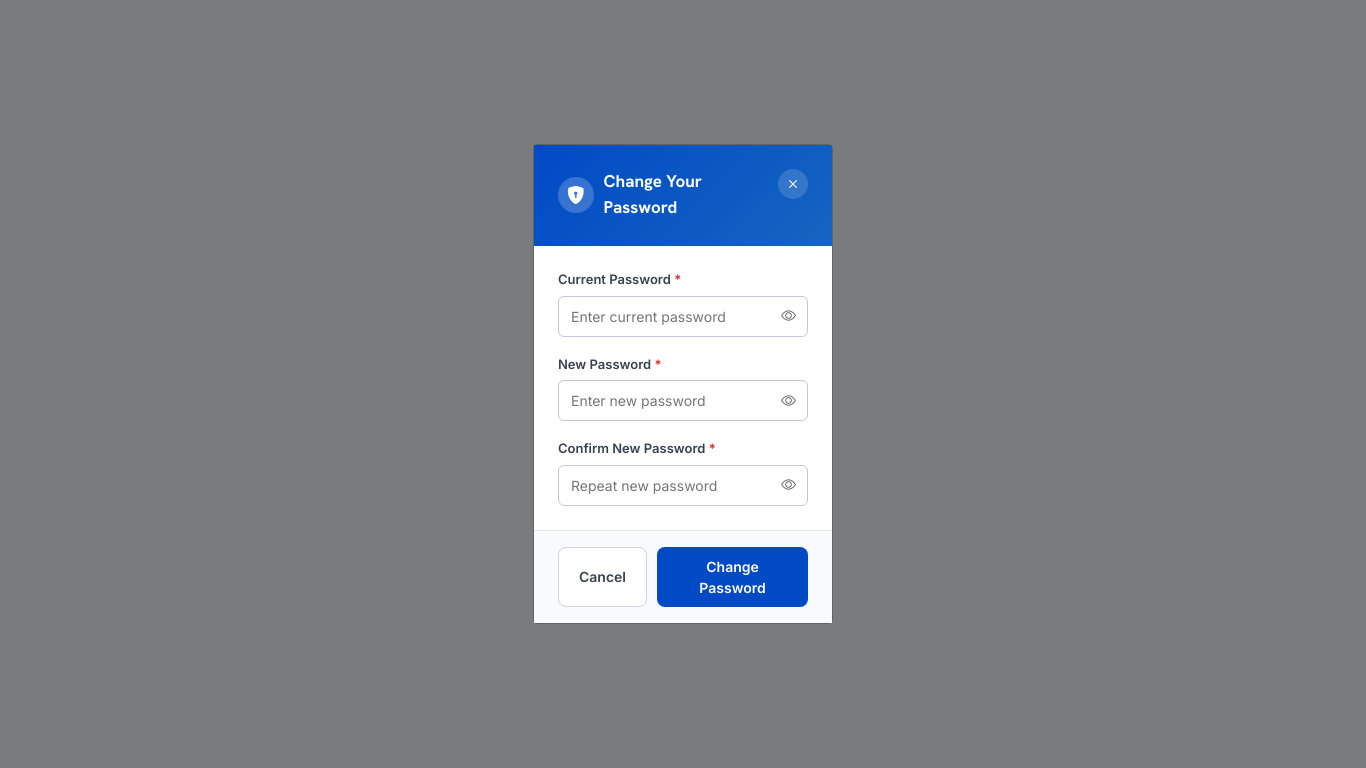
it: ChangePasswordModal — self service › wrong current password (server error) is shown and modal stays open
The width and height of the screenshot is (1366, 768).
Type "nope" into the password field with placeholder "Enter current password" at (683, 316), box [558,296,808,337]
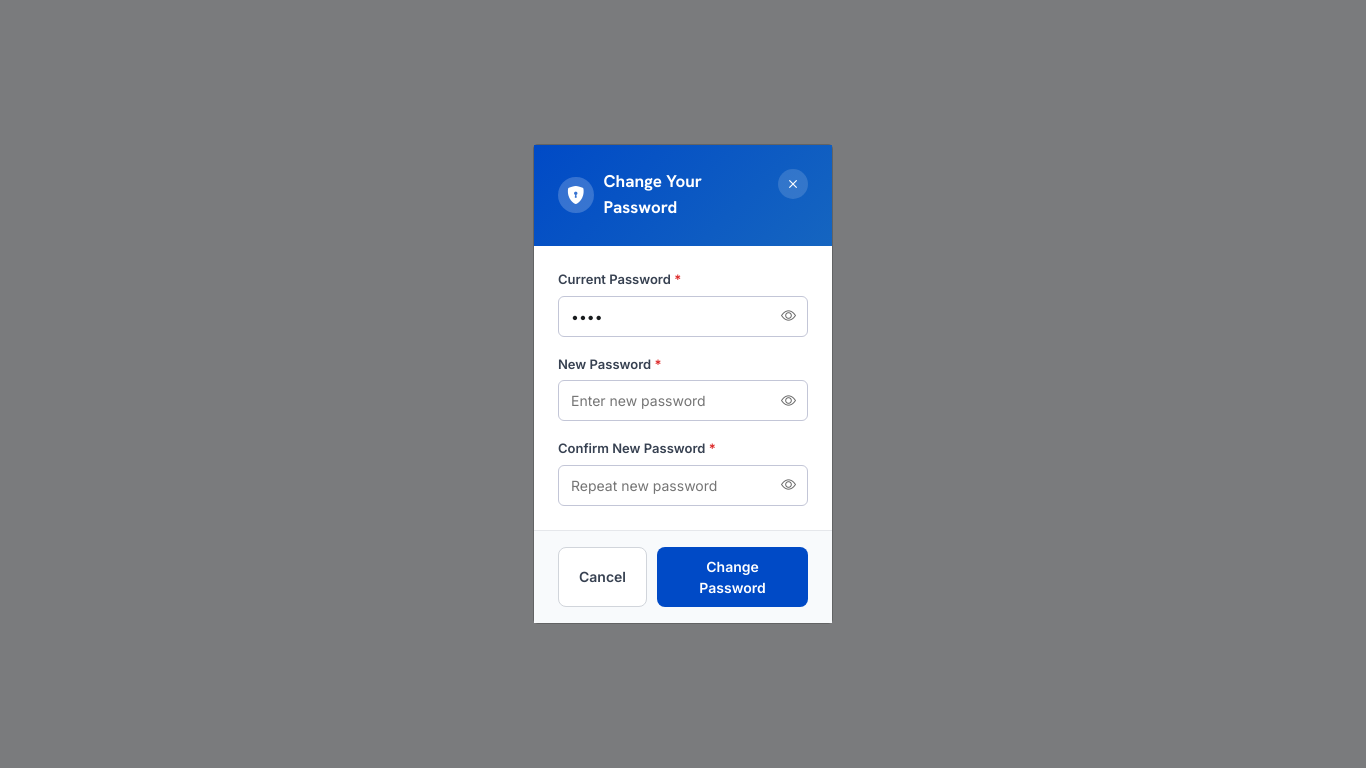
Type "NewPass1!" into the password field with placeholder "Enter new password" at (683, 401), box [558,380,808,421]
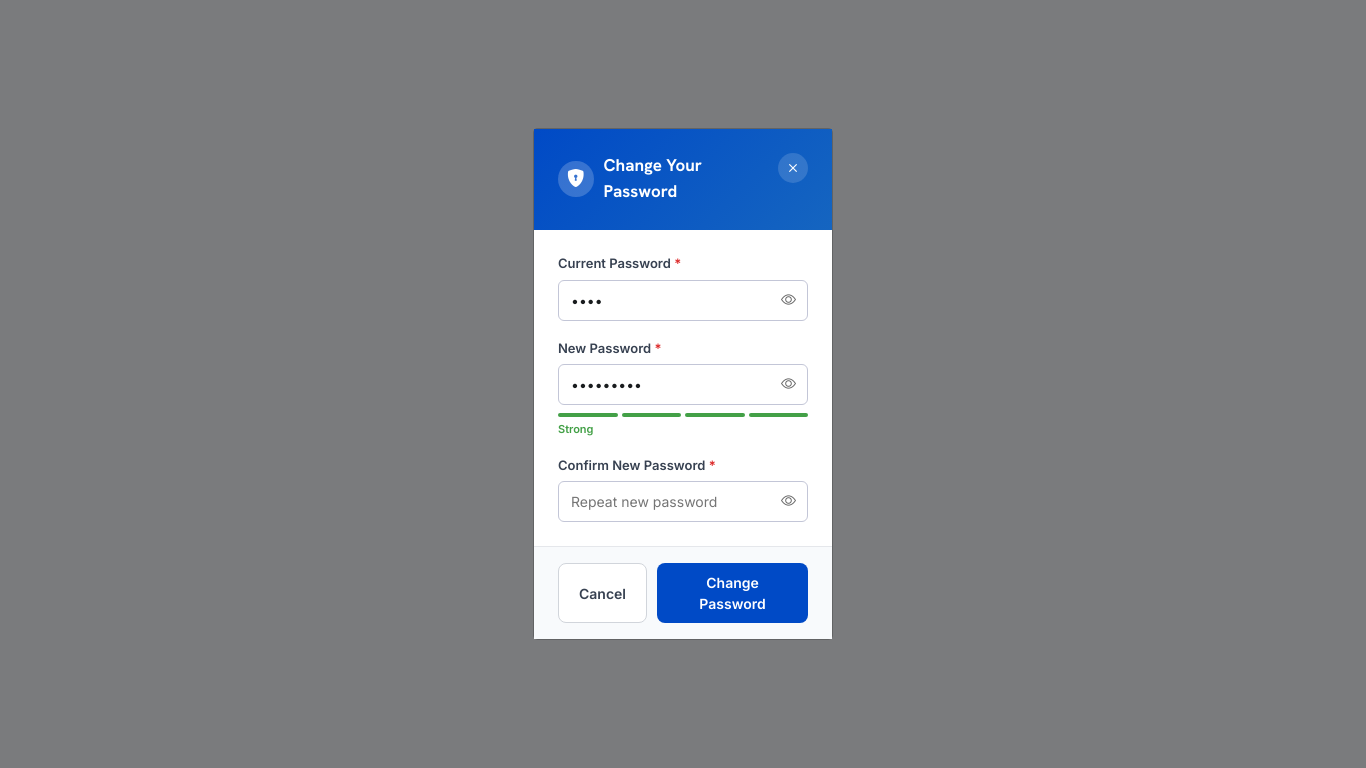
Type "NewPass1!" into the password field with placeholder "Repeat new password" at (683, 502), box [558,481,808,522]
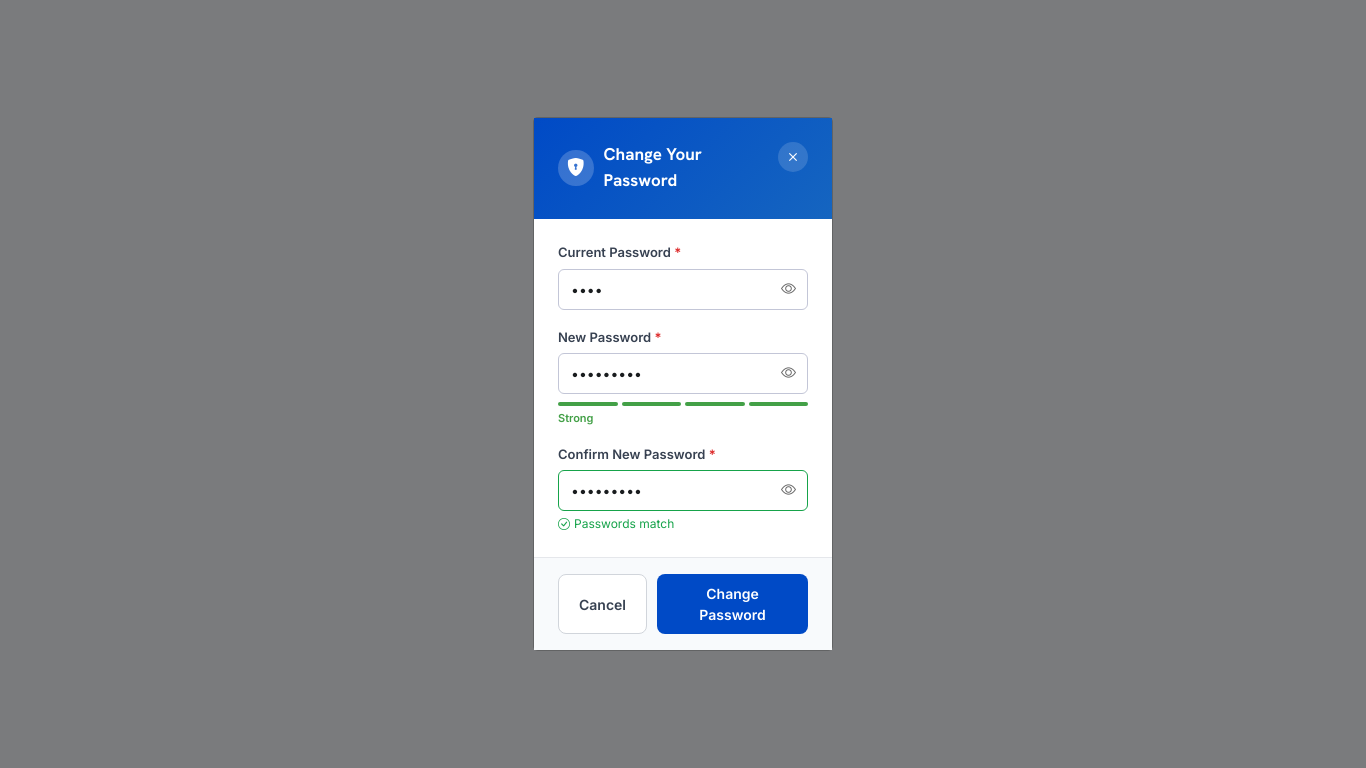
Click the button "Change Password" at (732, 604), box [657,574,808,634]
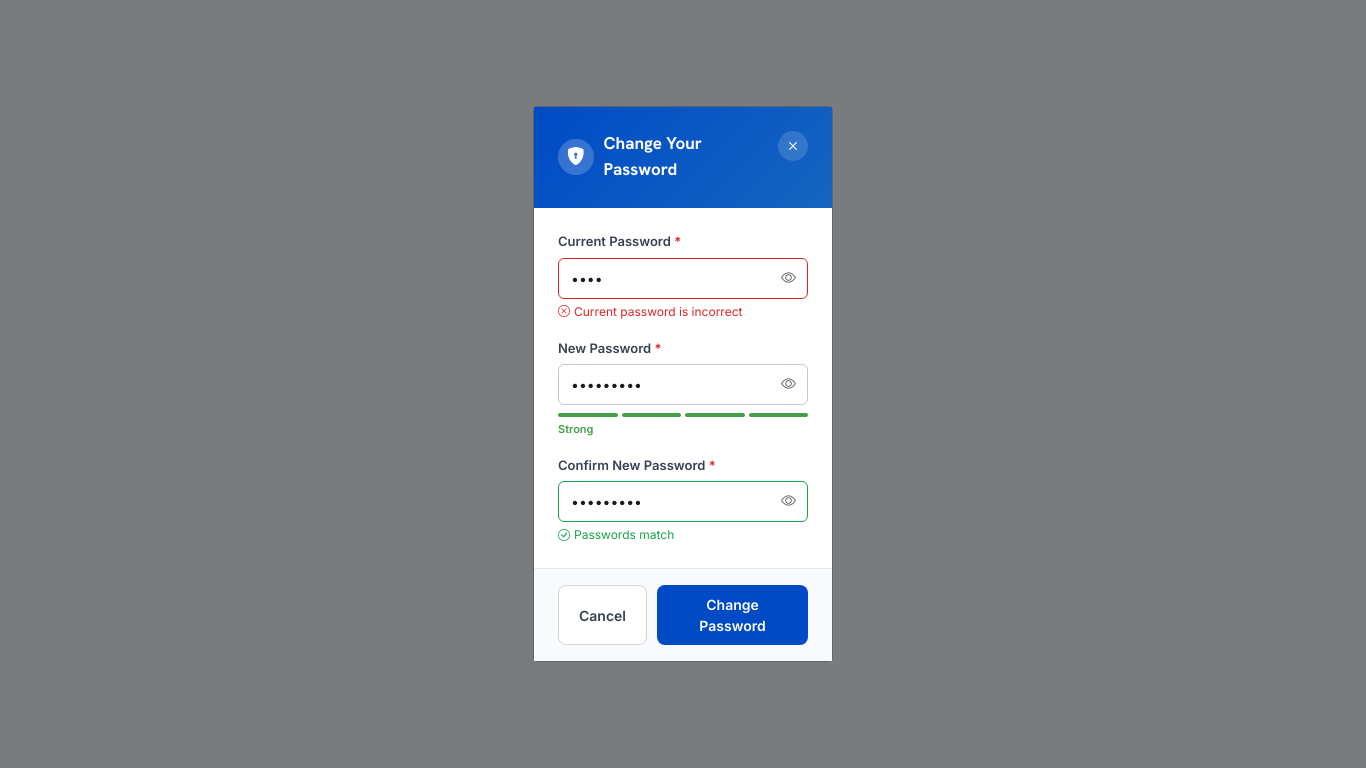
Expected: the text "Current password is incorrect" is shown, [558,304,742,318]
